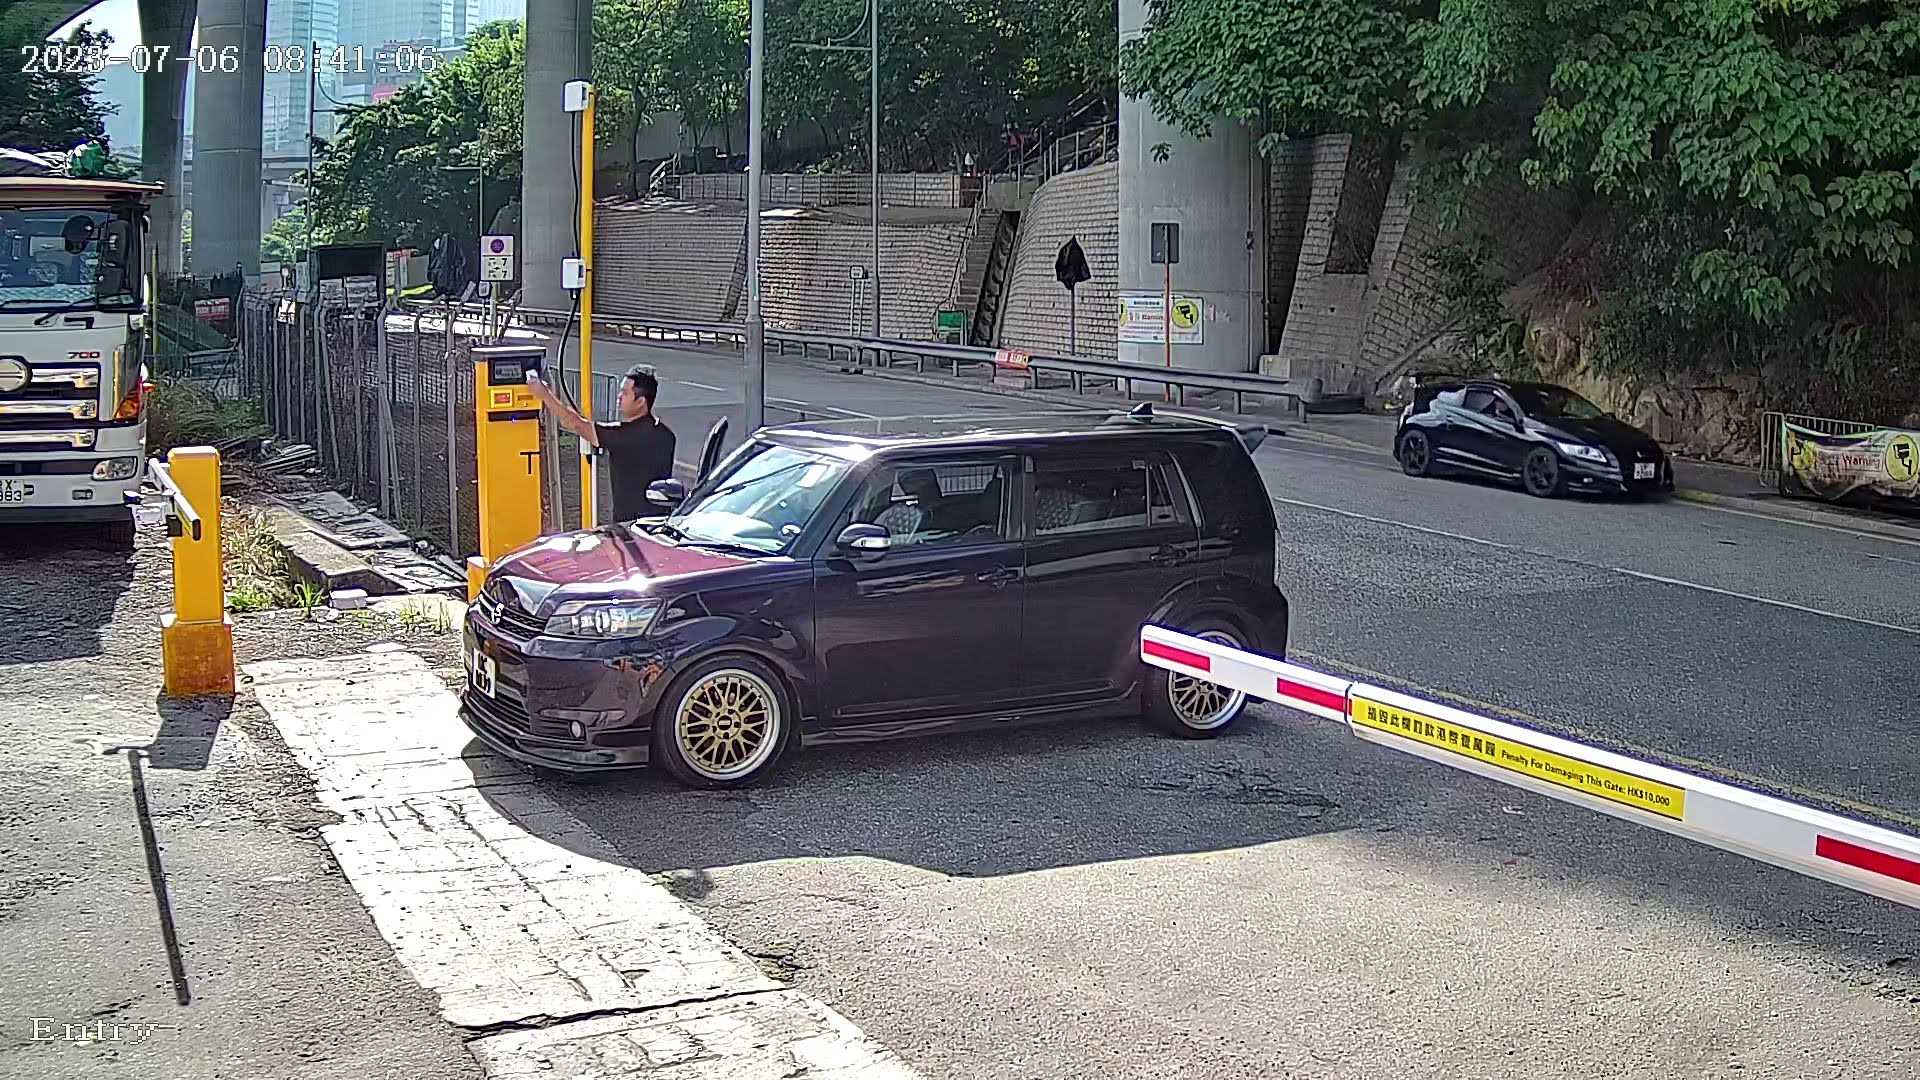privatecar: (423, 339, 1336, 851)
